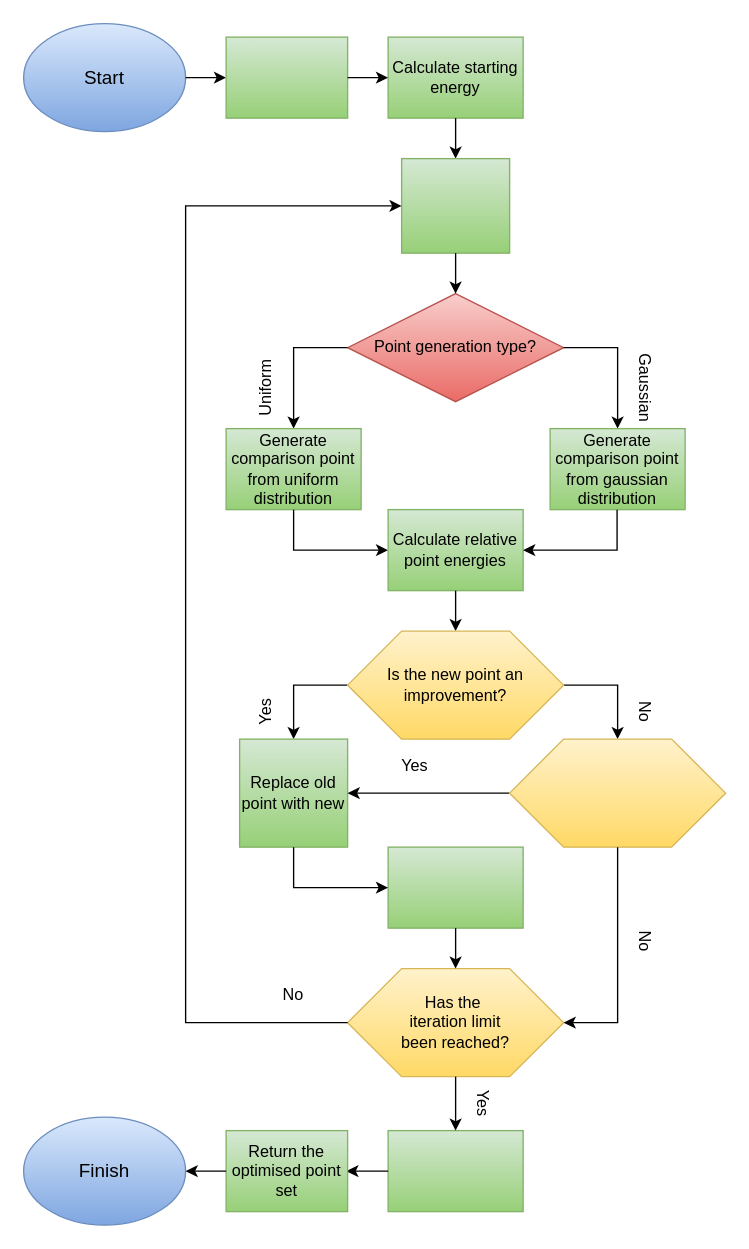
Image size: 749x1249. Some labels were removed from this diagram. Here are the shapes that lost their labels. From the top down, the box of each, then its label:
(225, 36, 348, 118): Create initial point set
(400, 157, 510, 253): Choose a point to compare
(508, 738, 726, 847): Does it pass the boltzmann probability test?
(387, 846, 523, 928): Update the system energy
(387, 1129, 523, 1212): Output the final system energy
